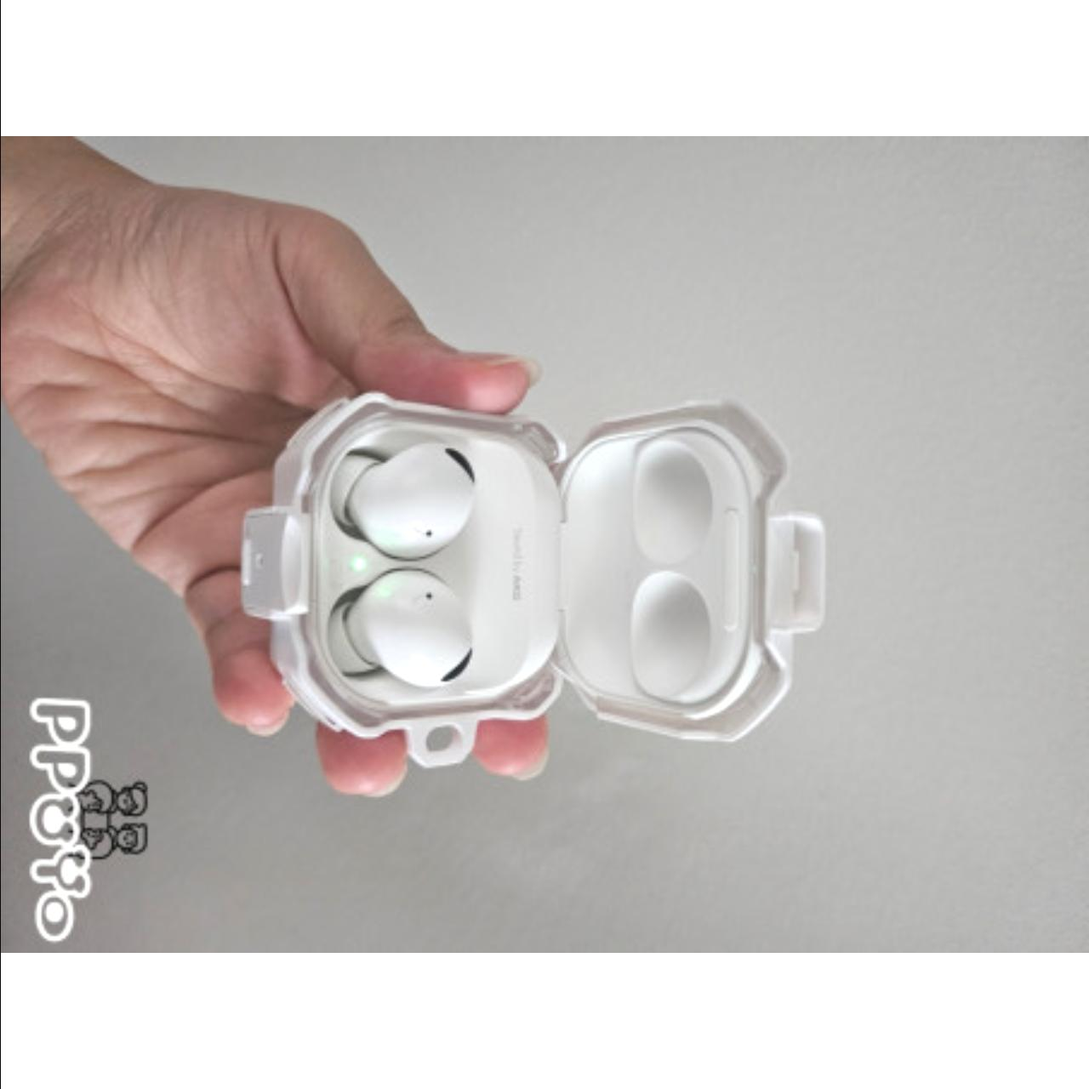Buds: (224, 385, 831, 773)
Buds_Units: (322, 439, 480, 567), (326, 570, 482, 693)
